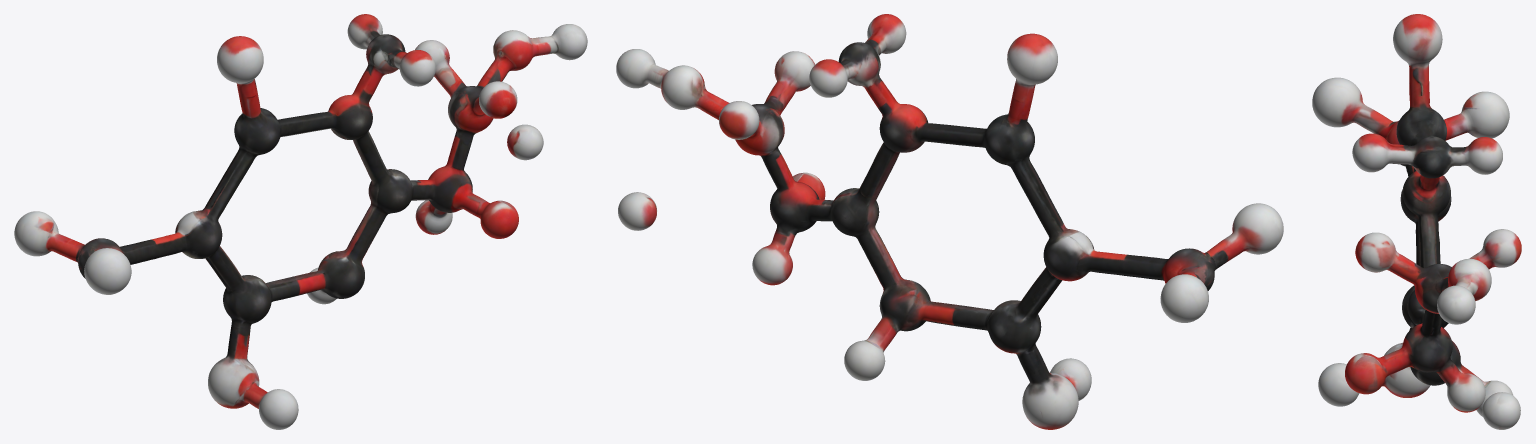
Rendered from glucose.glb.
3 views of the same model, side by side, from view 1: azimuth 30°, elevation 25°; view 2: azimuth 150°, elevation 25°; view 3: azimuth 270°, elevation 25° (orthographic). The views are drawn at different scales.
Size of the model in its own units: 2 by 1.25 by 0.615.
1 material, 1 textured.
